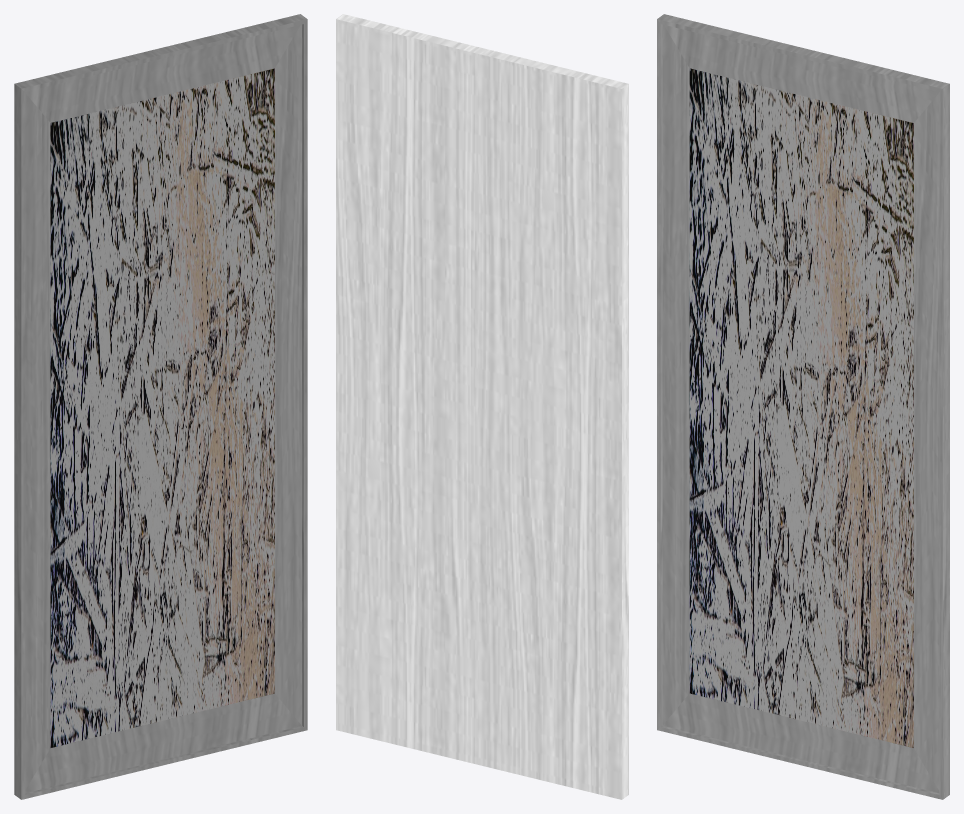
File: Painting_1ce759ef.obj
3 renders of one model, left to right at view 1: azimuth 30°, elevation 25°; view 2: azimuth 150°, elevation 25°; view 3: azimuth 330°, elevation 25°, orthographic.
Parts seen in each view (by area): view 1: FP330:Base5_219c2f94; view 2: FP330:Base5_219c2f94; view 3: FP330:Base5_219c2f94.
Part boxes in pixels (left/top/right/bottom): FP330:Base5_219c2f94: left=14, top=14, right=307, bottom=799; FP330:Base5_219c2f94: left=336, top=14, right=628, bottom=799; FP330:Base5_219c2f94: left=657, top=14, right=949, bottom=799.
Size of the model in its own units: 0.314 by 0.7459 by 0.0136.
